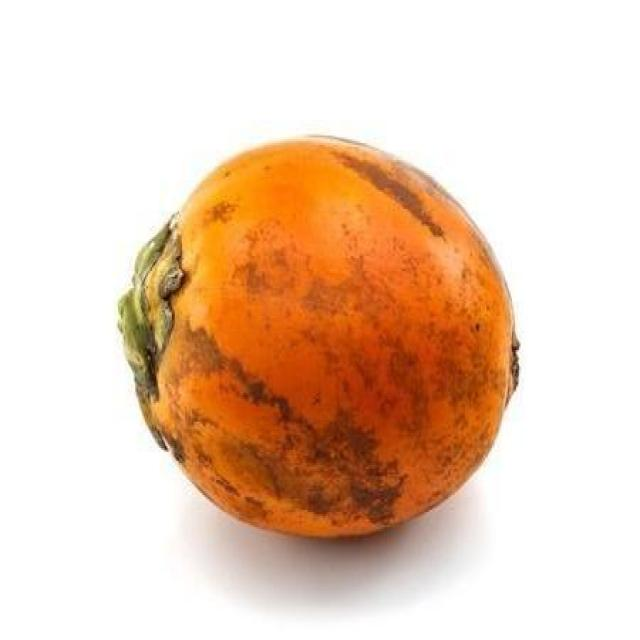good: (117, 137, 519, 542)
